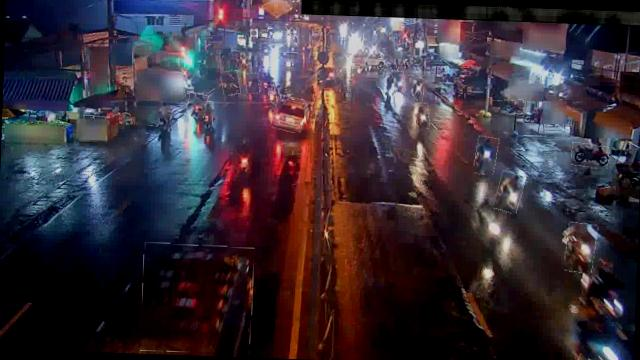Bike: (565, 223, 597, 273), (495, 172, 524, 213), (570, 143, 610, 168), (474, 136, 498, 176), (154, 105, 172, 136), (186, 93, 207, 118), (220, 70, 240, 96), (198, 101, 214, 131), (492, 99, 523, 114), (408, 78, 424, 101), (260, 68, 275, 92), (416, 103, 430, 128), (384, 71, 398, 96), (246, 73, 260, 94), (395, 71, 406, 92)
Car: (140, 243, 254, 355), (272, 96, 306, 132)
